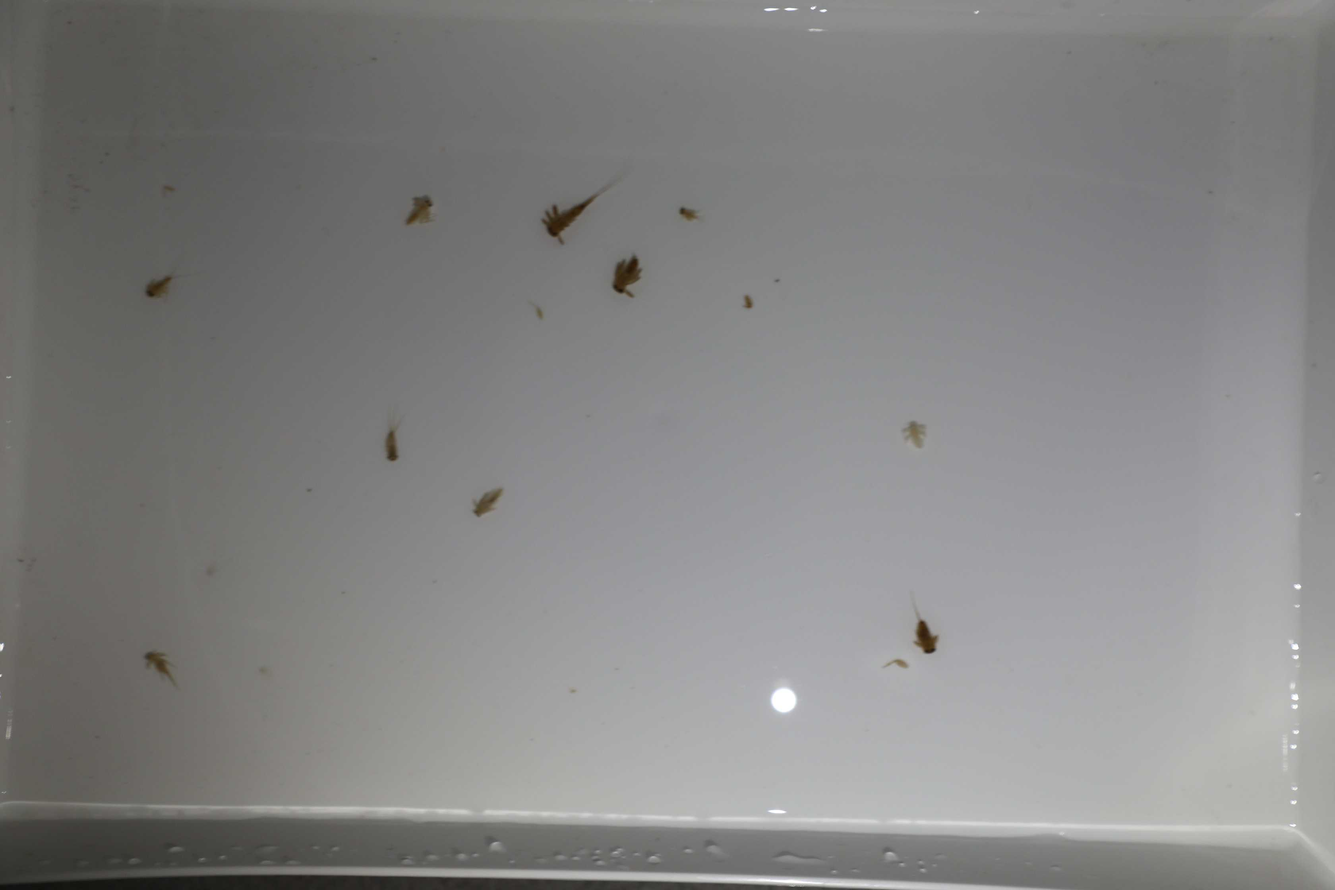Mayfly: (530, 175, 618, 251), (905, 588, 941, 657), (609, 248, 646, 301), (383, 405, 413, 467), (469, 481, 509, 520), (395, 193, 433, 230), (140, 269, 182, 302), (893, 418, 933, 452), (139, 649, 177, 682), (677, 205, 705, 226)
